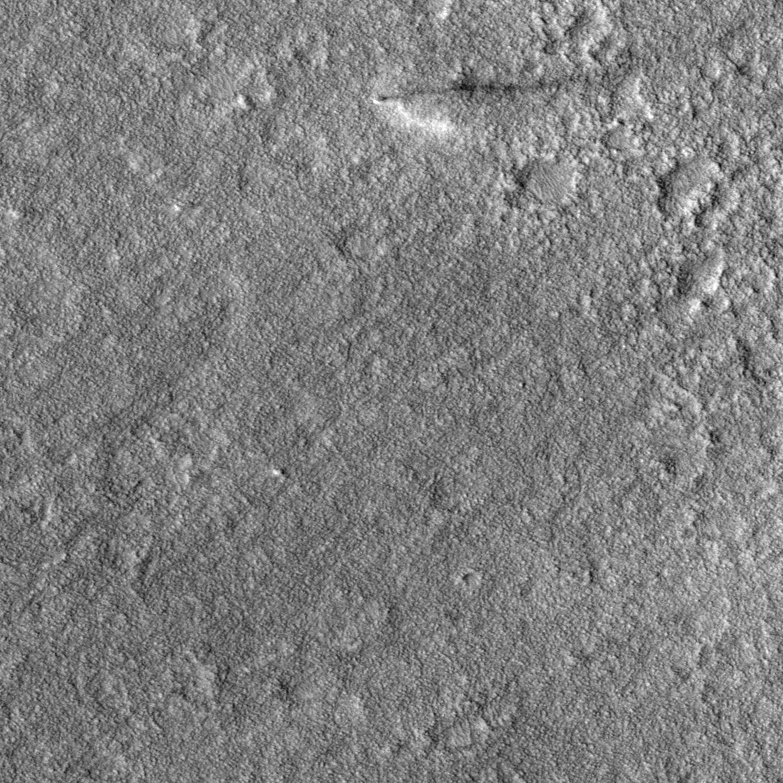dust_devil: (367, 60, 628, 144)
